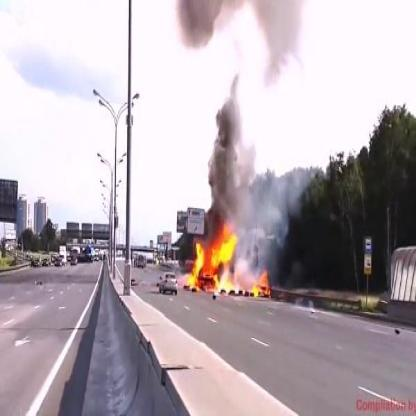fire: (184, 228, 244, 293), (250, 268, 274, 300)
